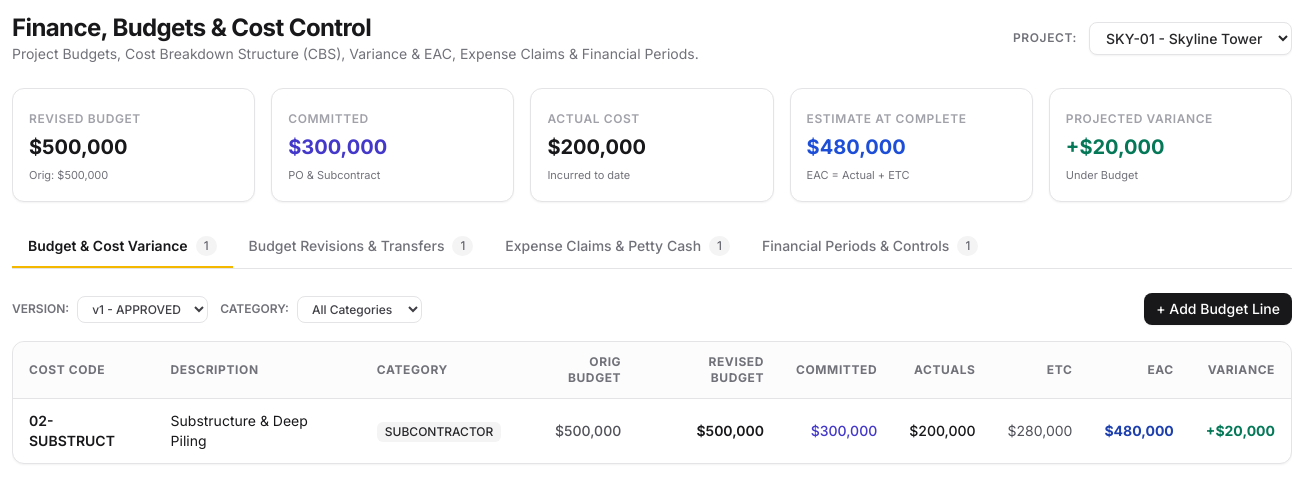
Test: FinancePage Component › switches to Budget Revisions tab and displays revisions
Expected: the heading "Finance, Budgets & Cost Control" is shown, top-left (12, 13), bottom-right (371, 42)
Click the button "Budget Revisions & Transfers 1" at (361, 247), box top-left (232, 226), bottom-right (489, 268)
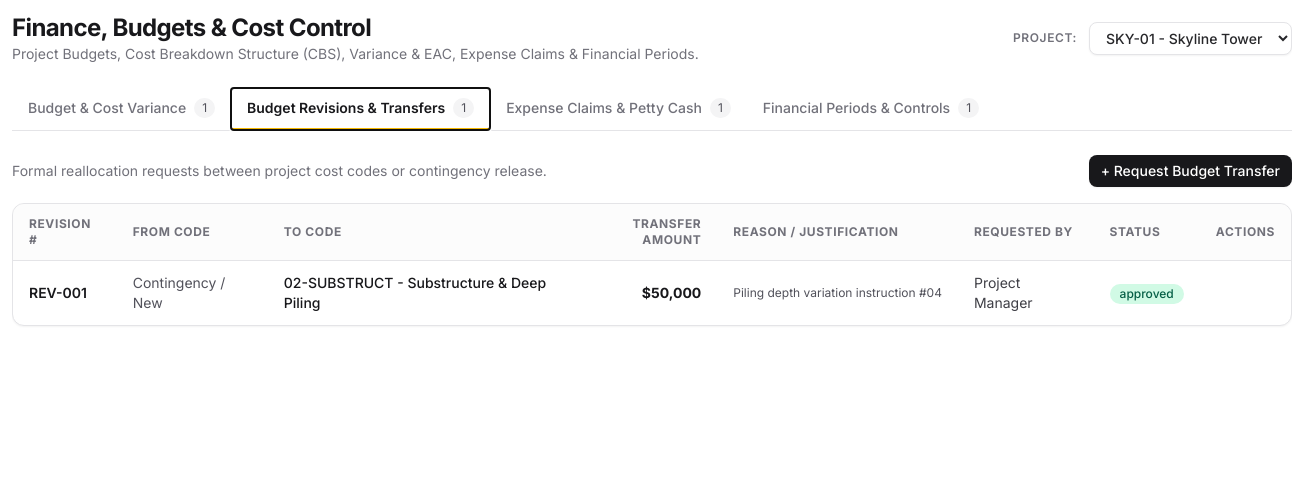
Expected: the text "REV-001" is shown, top-left (13, 260), bottom-right (117, 325)
Expected: the text "Piling depth variation instruction #04" is shown, top-left (717, 260), bottom-right (958, 325)
Expected: the text "$50,000" is shown, top-left (565, 260), bottom-right (717, 325)
